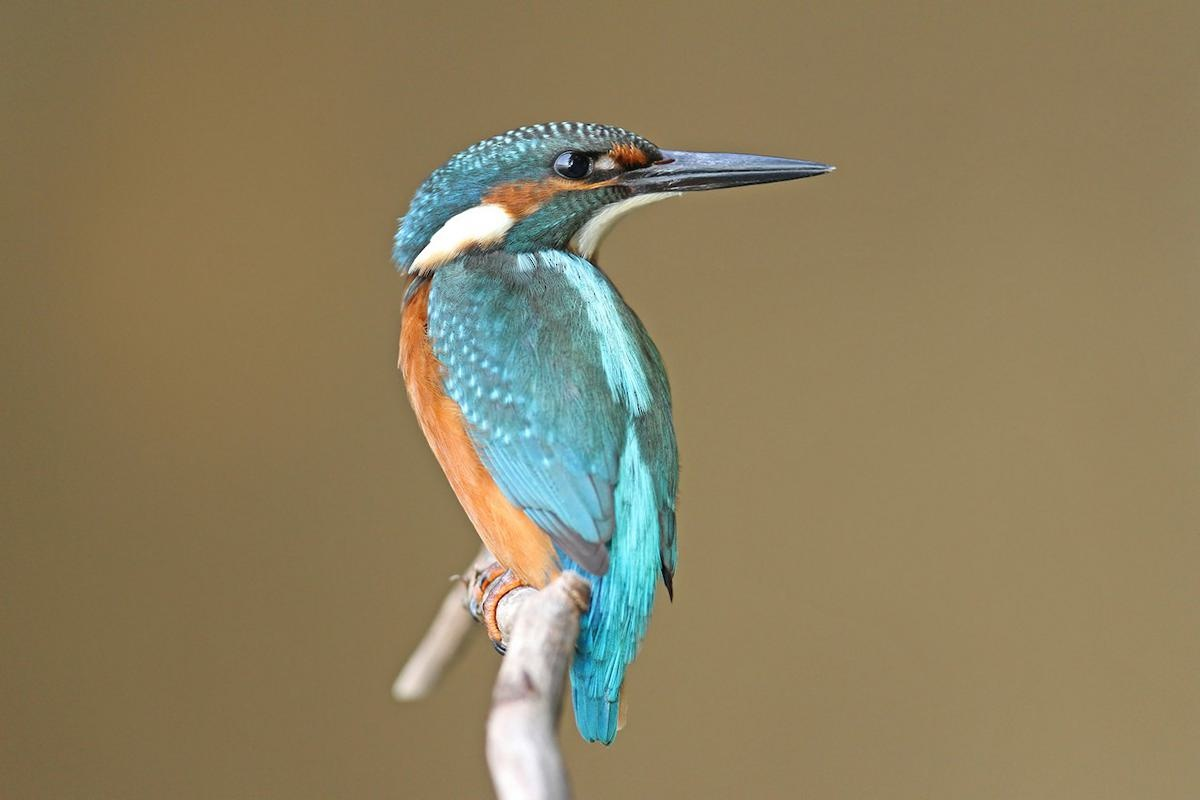kingfisher: (385, 114, 830, 728)
